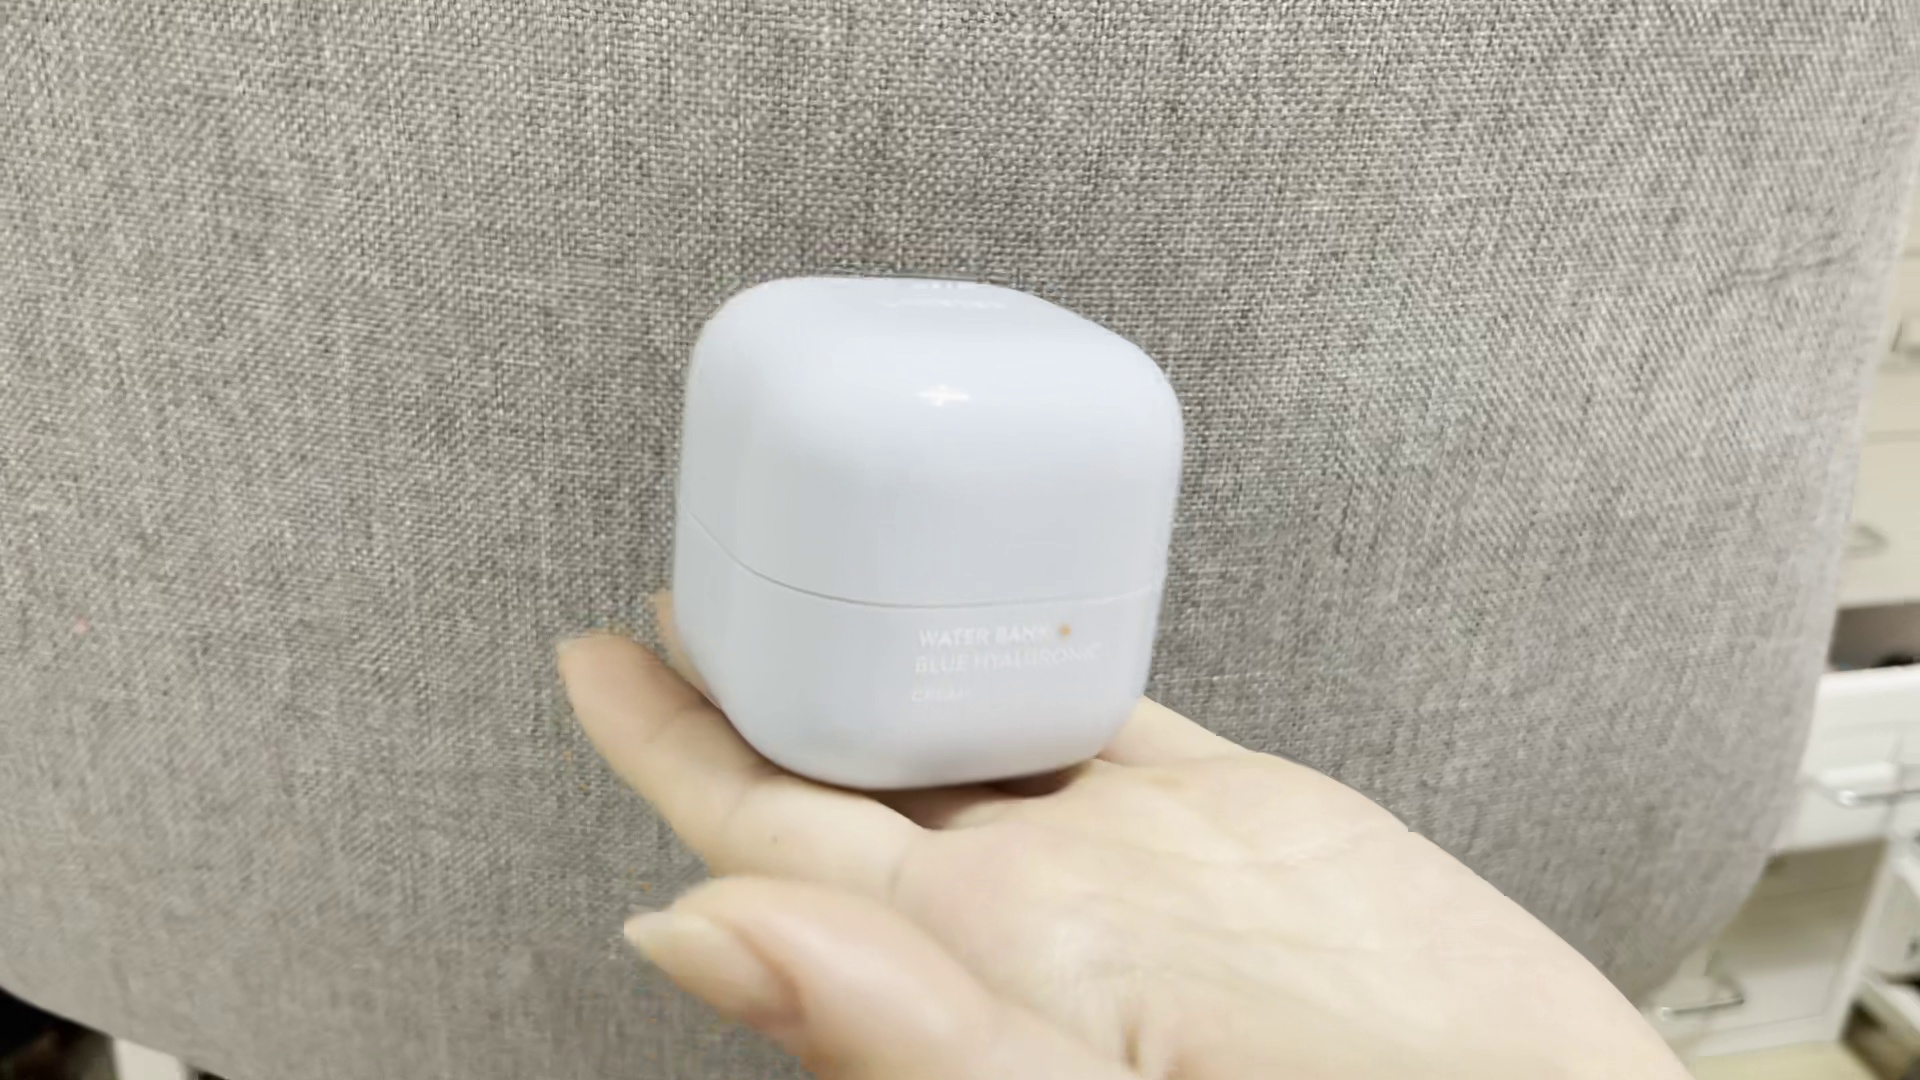cream: (676, 276, 1184, 785)
